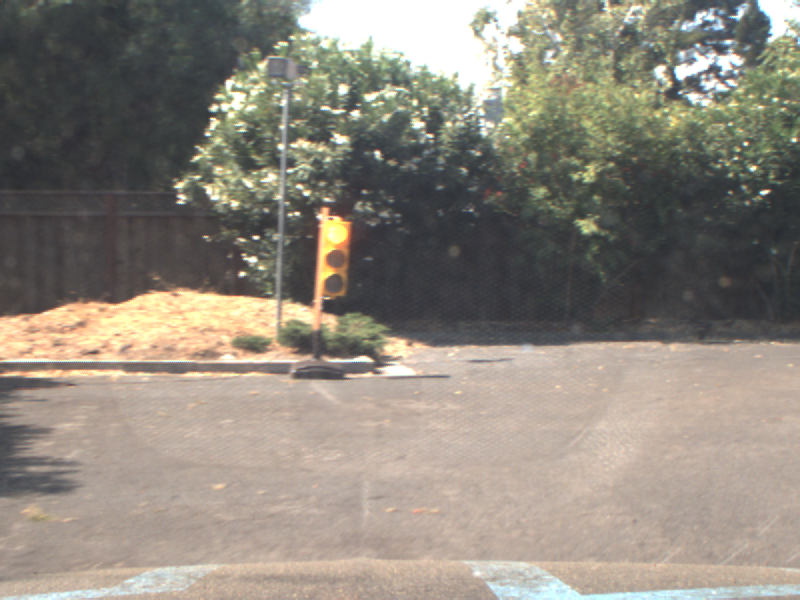red: (313, 208, 350, 297)
